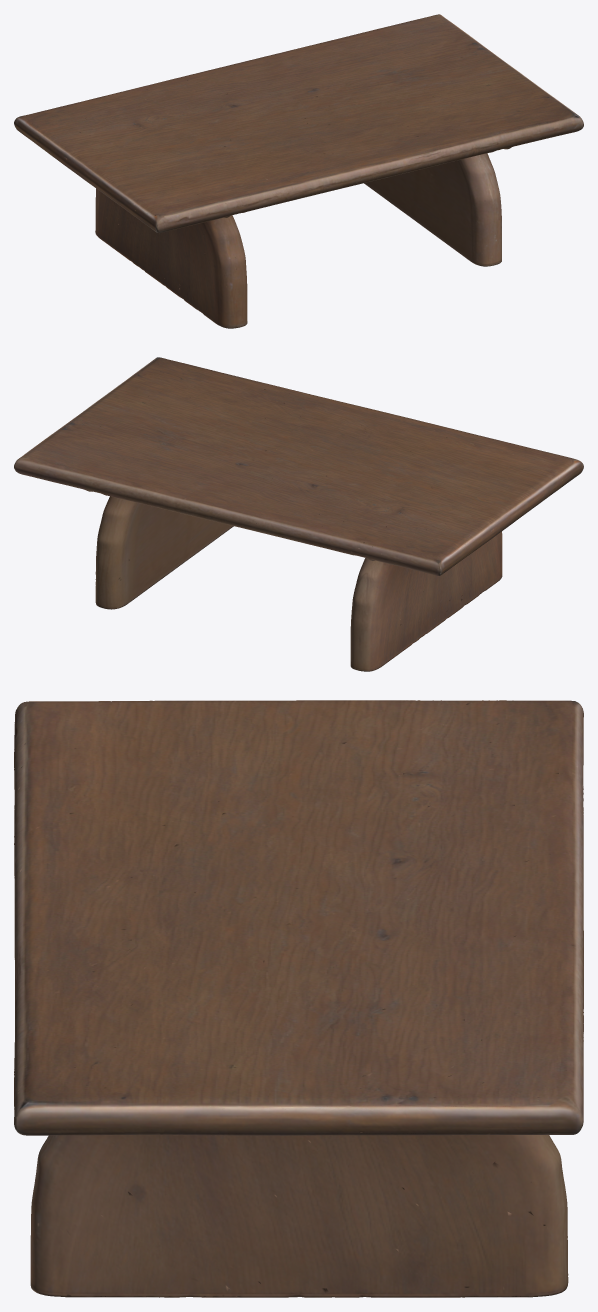
File: Natural_Wood_Table.glb
The picture shows the model from 3 angles, top to bottom: view 1: azimuth 30°, elevation 25°; view 2: azimuth 150°, elevation 25°; view 3: azimuth 270°, elevation 25°; orthographic projection. The views are drawn at different scales.
Size of the model in its own units: 2 by 0.5936 by 1.17.
Materials: 1 (1 with a texture image).
